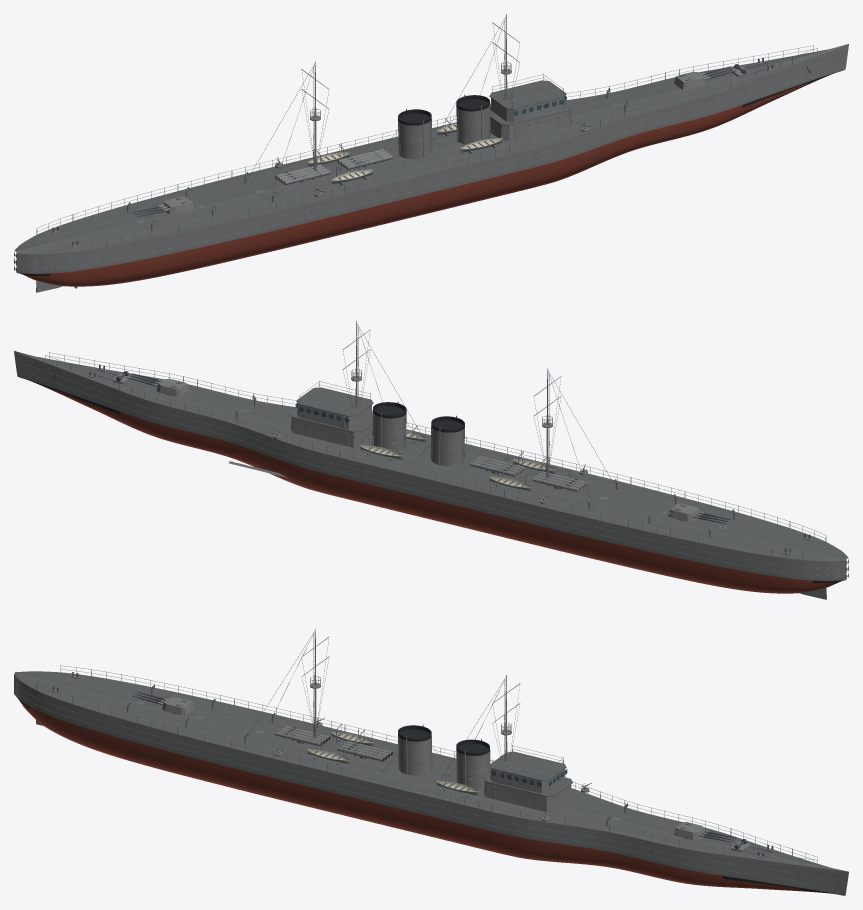
Rendered from kaze_t32.glb.
The picture shows the model from 3 angles, top to bottom: view 1: azimuth 30°, elevation 25°; view 2: azimuth 150°, elevation 25°; view 3: azimuth 330°, elevation 25°; orthographic projection.
Visible parts, largest first — view 1: Kaze class; view 2: Kaze class; view 3: Kaze class.
Boxes of the visible parts, bbox=[...] form: Kaze class: bbox=[14, 14, 848, 292]; Kaze class: bbox=[14, 321, 848, 599]; Kaze class: bbox=[14, 628, 848, 895].
Size of the model in its own units: 122 by 23.21 by 12.14.
Materials: 8 (2 with a texture image).
